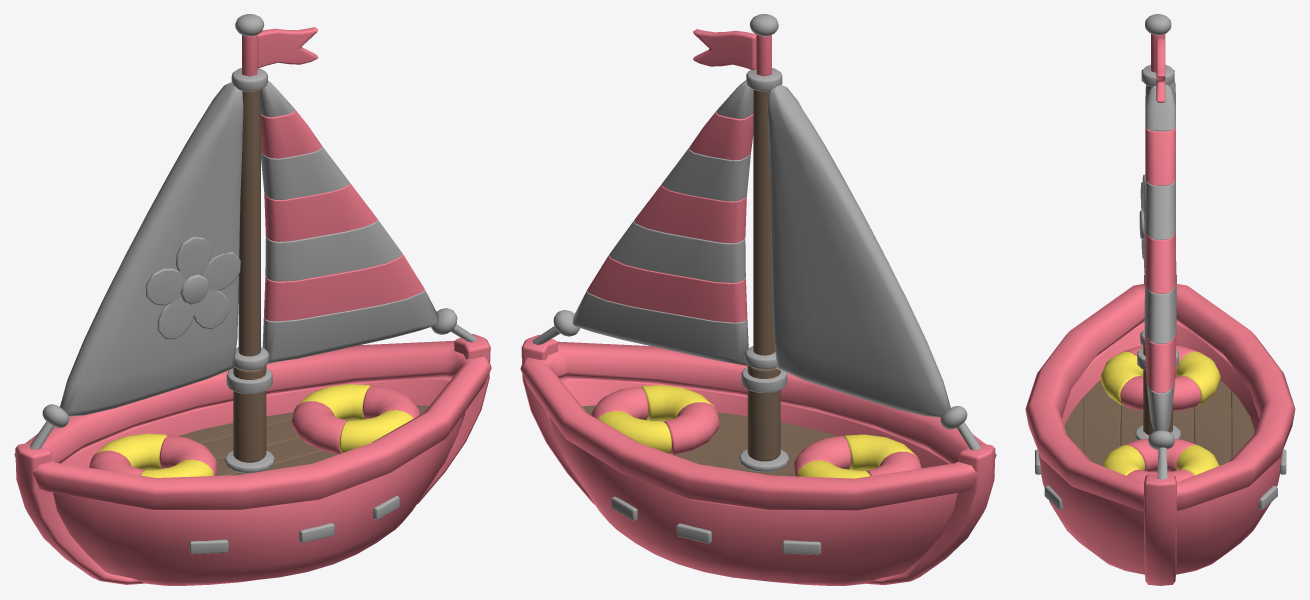
The model's file is SailBoat.fbx.
The picture shows the model from 3 angles, left to right: view 1: azimuth 30°, elevation 25°; view 2: azimuth 150°, elevation 25°; view 3: azimuth 270°, elevation 25°; orthographic projection. The views are drawn at different scales.
Parts seen in each view (by area): view 1: S_SailBoat5, S_SailBoat4, S_SailBoat1, S_SailBoat20, S_SailBoat19, S_SailBoat6, M_SailBoat41, S_SailBoat18, S_SailBoat17, S_SailBoat16, M_SailBoat40, S_SailBoat13 (+21 smaller); view 2: S_SailBoat1, S_SailBoat5, S_SailBoat4, S_SailBoat20, S_SailBoat19, S_SailBoat6, S_SailBoat18, M_SailBoat41, S_SailBoat17, S_SailBoat16, S_SailBoat13, M_SailBoat40 (+15 smaller); view 3: S_SailBoat4, S_SailBoat5, S_SailBoat6, S_SailBoat, S_SailBoat24, S_SailBoat15, S_SailBoat18, S_SailBoat16, S_SailBoat17, S_SailBoat19, M_SailBoat17, M_SailBoat20 (+13 smaller).
Part boxes in pixels (<box>): S_SailBoat5: <box>53,376,465,585</box>; S_SailBoat4: <box>14,340,491,510</box>; S_SailBoat1: <box>60,82,243,416</box>; S_SailBoat20: <box>262,289,438,363</box>; S_SailBoat19: <box>264,254,424,321</box>; S_SailBoat6: <box>15,334,490,584</box>; M_SailBoat41: <box>238,90,260,356</box>; S_SailBoat18: <box>265,219,402,281</box>; S_SailBoat17: <box>264,182,376,241</box>; S_SailBoat16: <box>261,146,349,199</box>; M_SailBoat40: <box>233,366,266,462</box>; S_SailBoat13: <box>242,27,318,76</box>; S_SailBoat1: <box>767,84,950,417</box>; S_SailBoat5: <box>546,377,957,585</box>; S_SailBoat4: <box>520,341,996,510</box>; S_SailBoat20: <box>572,290,748,365</box>; S_SailBoat19: <box>587,255,747,322</box>; S_SailBoat6: <box>521,335,995,584</box>; S_SailBoat18: <box>609,220,745,282</box>; M_SailBoat41: <box>753,89,775,355</box>; S_SailBoat17: <box>634,184,746,243</box>; S_SailBoat16: <box>662,147,750,201</box>; S_SailBoat13: <box>693,29,771,76</box>; M_SailBoat40: <box>747,365,780,461</box>; S_SailBoat4: <box>1025,284,1295,510</box>; S_SailBoat5: <box>1038,321,1282,574</box>; S_SailBoat6: <box>1144,275,1176,585</box>; S_SailBoat: <box>1194,380,1254,465</box>; S_SailBoat24: <box>1064,380,1120,465</box>; S_SailBoat15: <box>1145,126,1175,185</box>; S_SailBoat18: <box>1144,261,1176,343</box>; S_SailBoat16: <box>1145,176,1175,239</box>; S_SailBoat17: <box>1145,226,1175,293</box>; S_SailBoat19: <box>1144,326,1176,393</box>; M_SailBoat17: <box>1120,376,1201,411</box>; M_SailBoat20: <box>1176,351,1220,405</box>.
Size of the model in its own units: 573 by 637 by 304.
